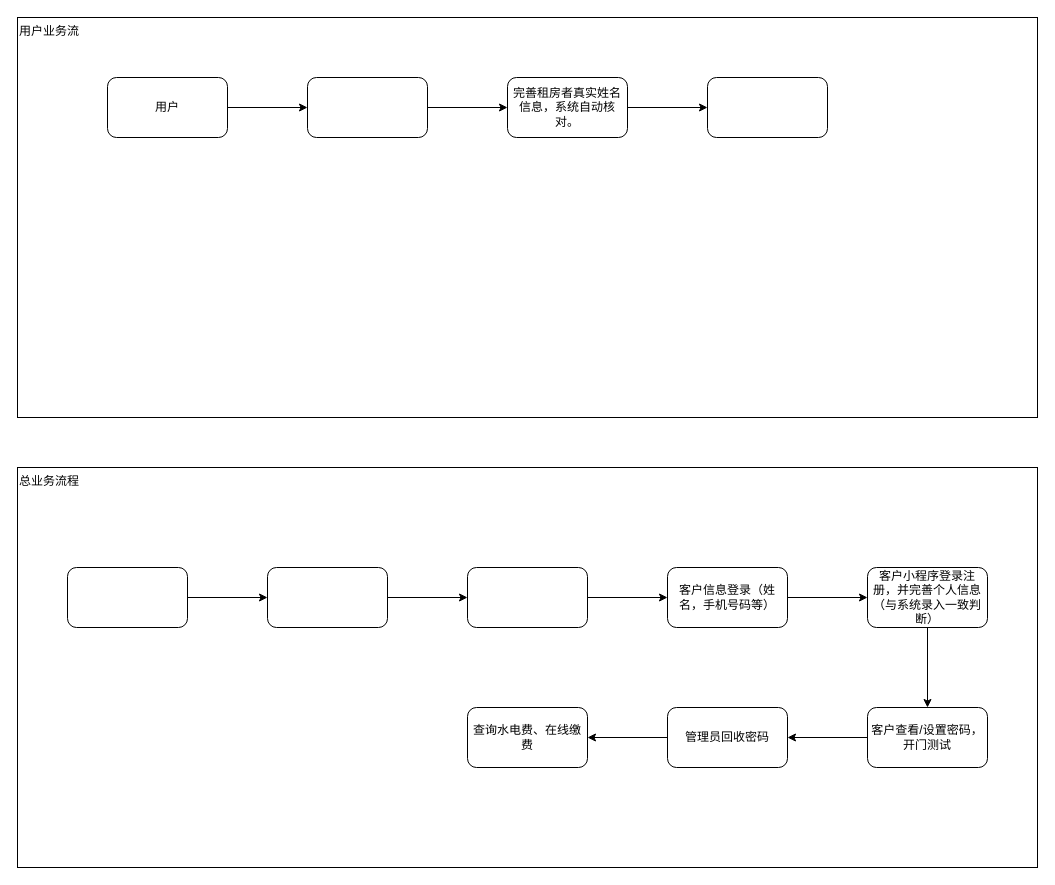
This 1055x885 diagram has some shape labels left out. The centre of each missing label's shape, as x and y in pixels:
"基础数据维护" goes at point (127, 597).
"房源信息" goes at point (327, 597).
"注册授权登录" goes at point (367, 107).
"锁的维护" goes at point (527, 597).
